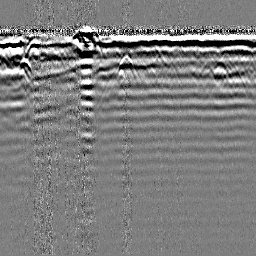cavity: (114, 54, 140, 82)
